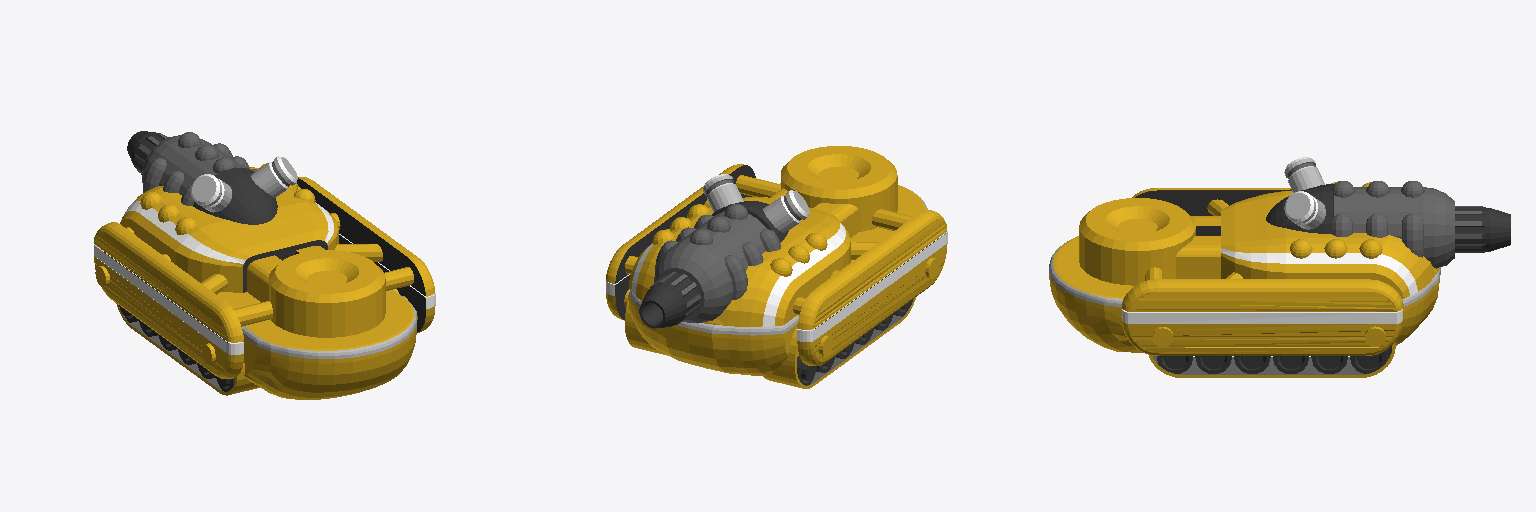
Rendered from tank.obj.
The picture shows the model from 3 angles: view 1: azimuth 30°, elevation 25°; view 2: azimuth 150°, elevation 25°; view 3: azimuth 270°, elevation 25°; orthographic projection.
Visible parts, largest first — view 1: head, body; view 2: head, body; view 3: head, body.
Part boxes in pixels (x1,y1,x2,y2): head: (94, 131, 434, 342); body: (94, 234, 435, 399); head: (606, 146, 946, 329); body: (606, 183, 947, 388); head: (1079, 157, 1510, 311); body: (1049, 236, 1440, 377).
Bounding box in the file's own units: 1.05 × 0.7562 × 1.96.